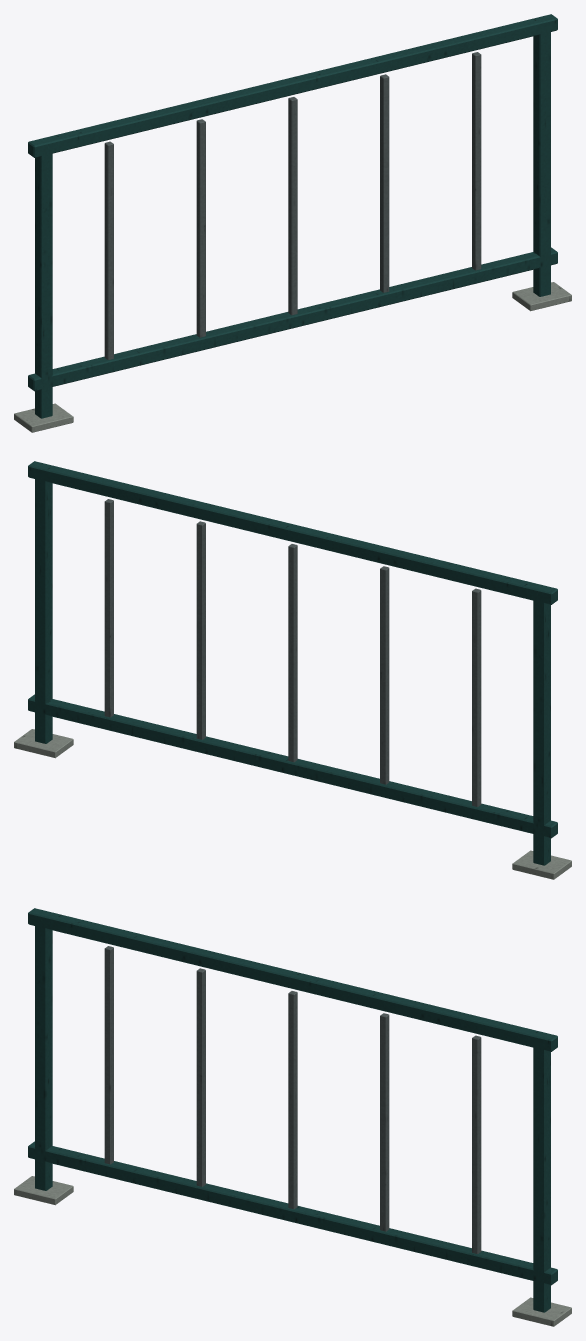
The model's file is gallery_railing_2m.glb.
3 renders of one model, top to bottom at view 1: azimuth 30°, elevation 25°; view 2: azimuth 150°, elevation 25°; view 3: azimuth 330°, elevation 25°, orthographic.
Parts seen in each view (by area): view 1: gallery_railing_2m; view 2: gallery_railing_2m; view 3: gallery_railing_2m.
Boxes of the visible parts, box(x1,y1,x2,y2) form: gallery_railing_2m: box(14, 14, 571, 432); gallery_railing_2m: box(14, 461, 571, 879); gallery_railing_2m: box(14, 908, 571, 1326).
Size of the model in its own units: 2.06 by 1.02 by 0.12.
Materials: 3 (3 with a texture image).
